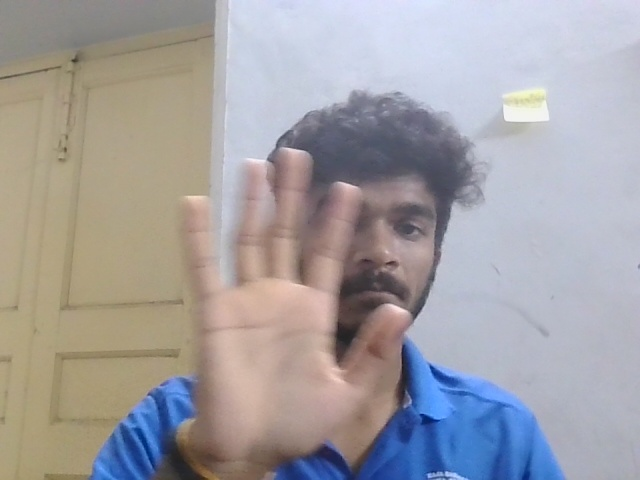Hello: (153, 136, 416, 474)
